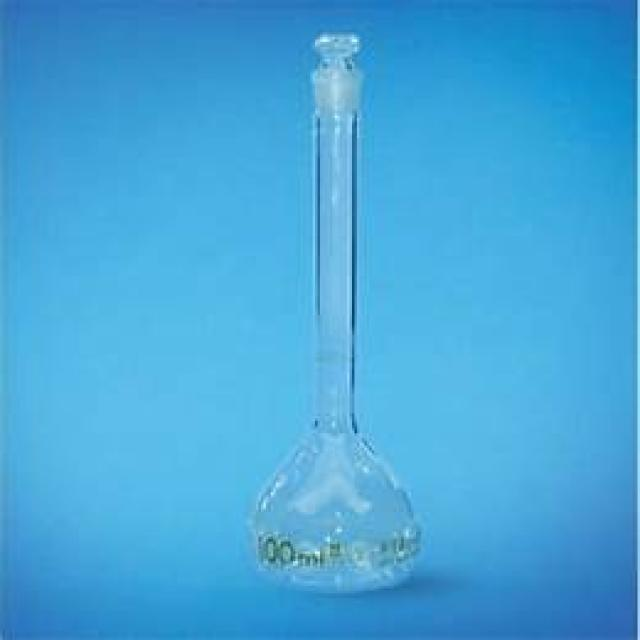Volumetric flask: (240, 20, 431, 592)
